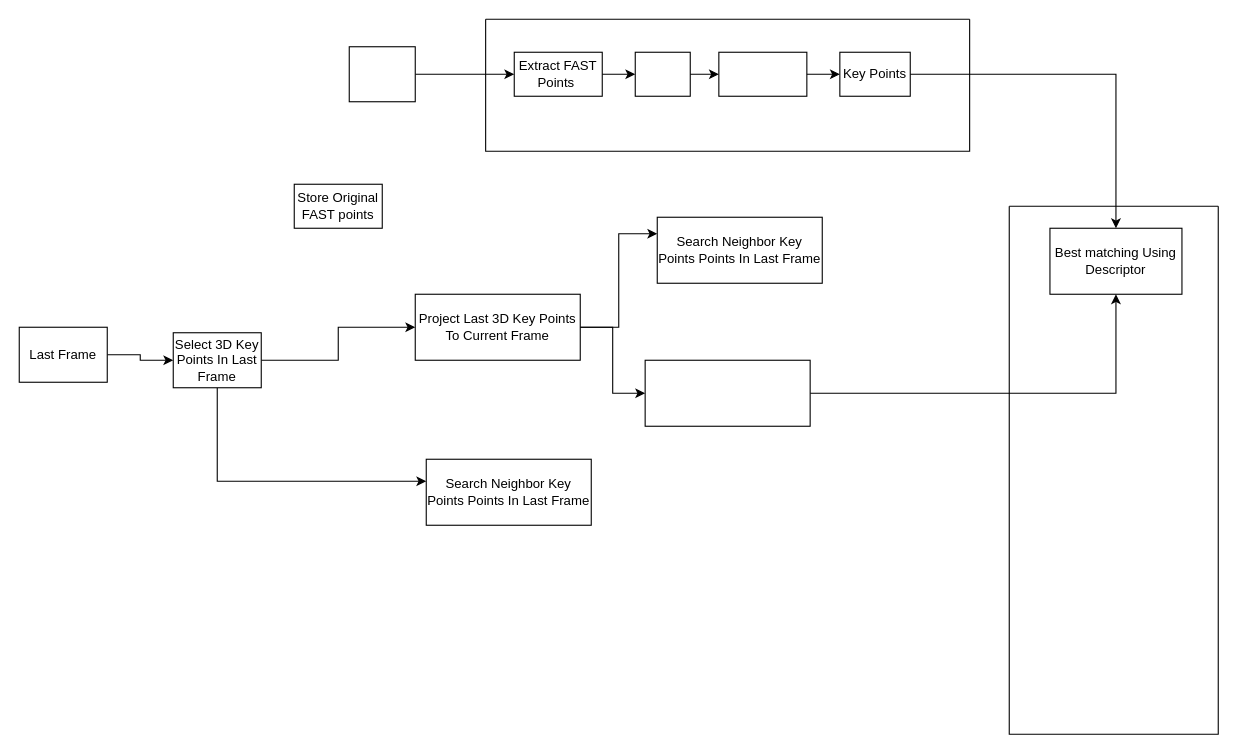
This 1238x754 diagram has some shape labels left out. The shapes that lost their labels are listed below. From the top down, each one's box as (x1, y1, x2, y2) in pixels, then its label:
(348, 46, 415, 102): Current Frame
(634, 51, 690, 96): Octree Filter
(718, 51, 807, 96): Generate Descriptor
(644, 359, 810, 426): Search Neighbor Key Points In Current Frame
